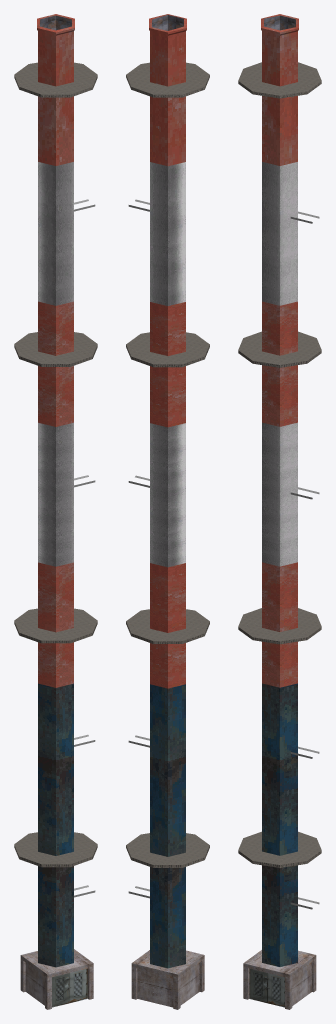
Rendered from vegasplant09.obj.
The picture shows the model from 3 angles, left to right: view 1: azimuth 30°, elevation 25°; view 2: azimuth 150°, elevation 25°; view 3: azimuth 330°, elevation 25°; orthographic projection.
Parts seen in each view (by area): view 1: vegasplant09; view 2: vegasplant09; view 3: vegasplant09.
Part boxes in pixels (x1,y1,x2,y2): vegasplant09: (14,14,97,1009); vegasplant09: (126,14,209,1009); vegasplant09: (238,14,321,1009).
Bounding box in the file's own units: 8.15 × 104 × 8.14.
8 materials, 7 textured.
